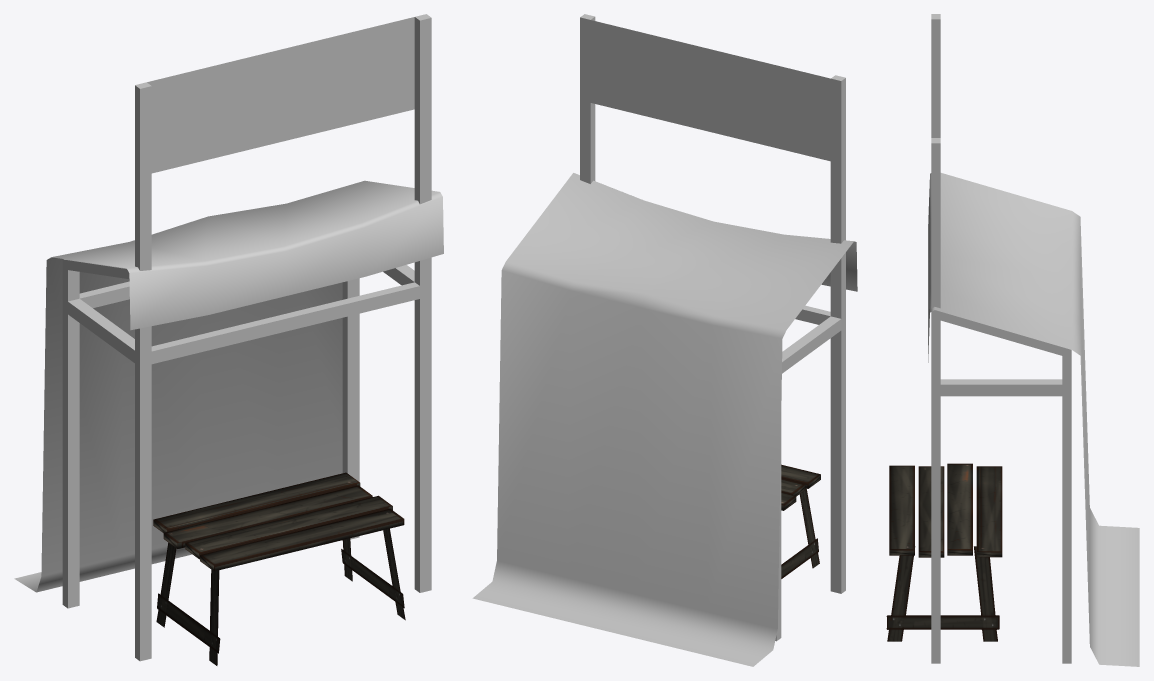
The model's file is Stall3Model.fbx.
3 views of the same model, side by side, from view 1: azimuth 30°, elevation 25°; view 2: azimuth 150°, elevation 25°; view 3: azimuth 270°, elevation 25° (orthographic). The views are drawn at different scales.
Visible parts, largest first — view 1: Plane.010; view 2: Plane.010; view 3: Plane.010.
Part boxes in pixels (x1=…): Plane.010: x1=14, y1=14, x2=443, y2=665; Plane.010: x1=472, y1=14, x2=857, y2=666; Plane.010: x1=886, y1=14, x2=1139, y2=666.
Size of the model in its own units: 716 by 1249 by 551.
